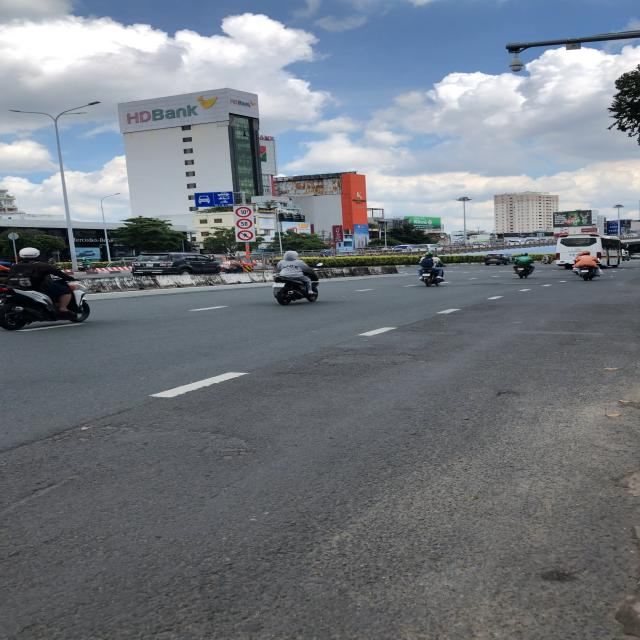Bien bao cam nguoi di bo: (236, 229, 255, 242)
Bien bao toc do toi da cho phep: (235, 217, 255, 229)
